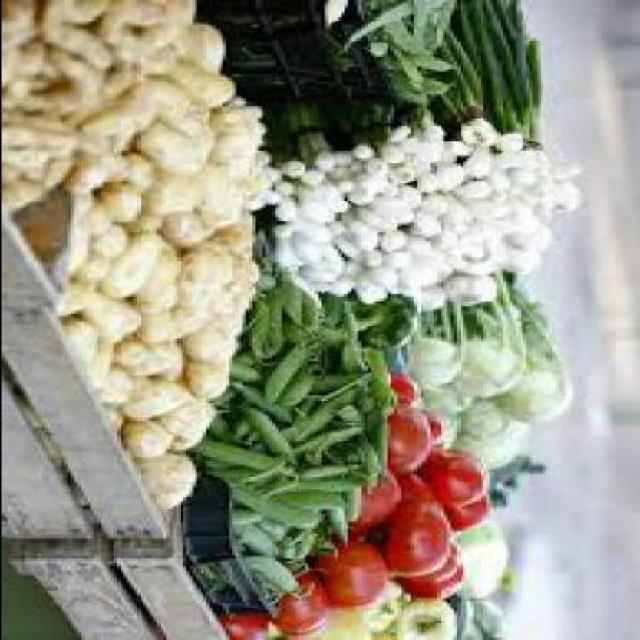BIODEGRADABLE: (281, 111, 581, 306), (192, 282, 396, 480), (237, 474, 360, 591), (448, 0, 540, 138), (329, 0, 458, 92), (267, 96, 436, 166), (500, 272, 578, 420), (455, 270, 528, 392), (455, 524, 511, 638), (86, 75, 185, 136), (379, 496, 456, 573), (26, 44, 103, 114), (41, 0, 116, 68), (317, 536, 389, 606), (416, 296, 472, 386), (454, 401, 532, 462), (228, 478, 329, 524), (419, 445, 492, 506), (350, 292, 422, 351), (99, 232, 161, 299), (268, 333, 326, 401), (350, 467, 405, 536), (181, 240, 234, 309), (136, 118, 198, 176), (3, 153, 72, 205), (96, 1, 172, 47), (393, 590, 465, 638), (419, 381, 475, 442), (278, 568, 333, 630), (122, 373, 195, 418), (245, 403, 300, 462), (393, 541, 465, 584), (145, 450, 198, 508), (188, 440, 284, 472), (350, 578, 408, 630), (142, 0, 201, 49), (390, 405, 432, 472), (142, 242, 184, 309), (495, 454, 551, 504), (132, 340, 188, 386), (172, 157, 231, 200), (142, 173, 204, 213), (122, 412, 178, 456), (86, 292, 142, 336), (168, 398, 218, 447), (406, 560, 468, 598), (3, 128, 112, 148), (6, 104, 86, 131), (63, 152, 112, 195), (3, 146, 69, 177), (468, 594, 512, 638), (214, 130, 264, 168), (69, 316, 106, 366), (211, 294, 257, 334), (194, 72, 240, 112), (168, 101, 214, 141), (287, 472, 370, 494), (191, 324, 244, 358), (102, 178, 142, 222), (116, 149, 156, 193), (274, 487, 357, 508), (56, 279, 99, 319), (200, 22, 232, 75), (188, 356, 230, 396), (448, 492, 494, 528), (228, 608, 283, 638), (240, 157, 278, 200), (168, 304, 214, 338), (320, 610, 375, 638), (102, 363, 140, 403), (122, 52, 178, 79), (161, 212, 214, 240), (402, 467, 442, 504), (284, 363, 324, 400), (205, 193, 248, 227), (220, 218, 258, 255), (58, 0, 117, 23), (90, 333, 116, 385), (448, 582, 472, 638), (118, 336, 156, 366), (218, 104, 260, 131), (99, 223, 132, 257), (6, 0, 43, 28), (86, 195, 112, 232), (350, 336, 376, 370), (238, 254, 260, 294), (142, 312, 178, 336), (290, 618, 333, 638), (399, 366, 419, 406), (128, 211, 166, 232), (82, 252, 109, 277), (436, 413, 446, 430)
